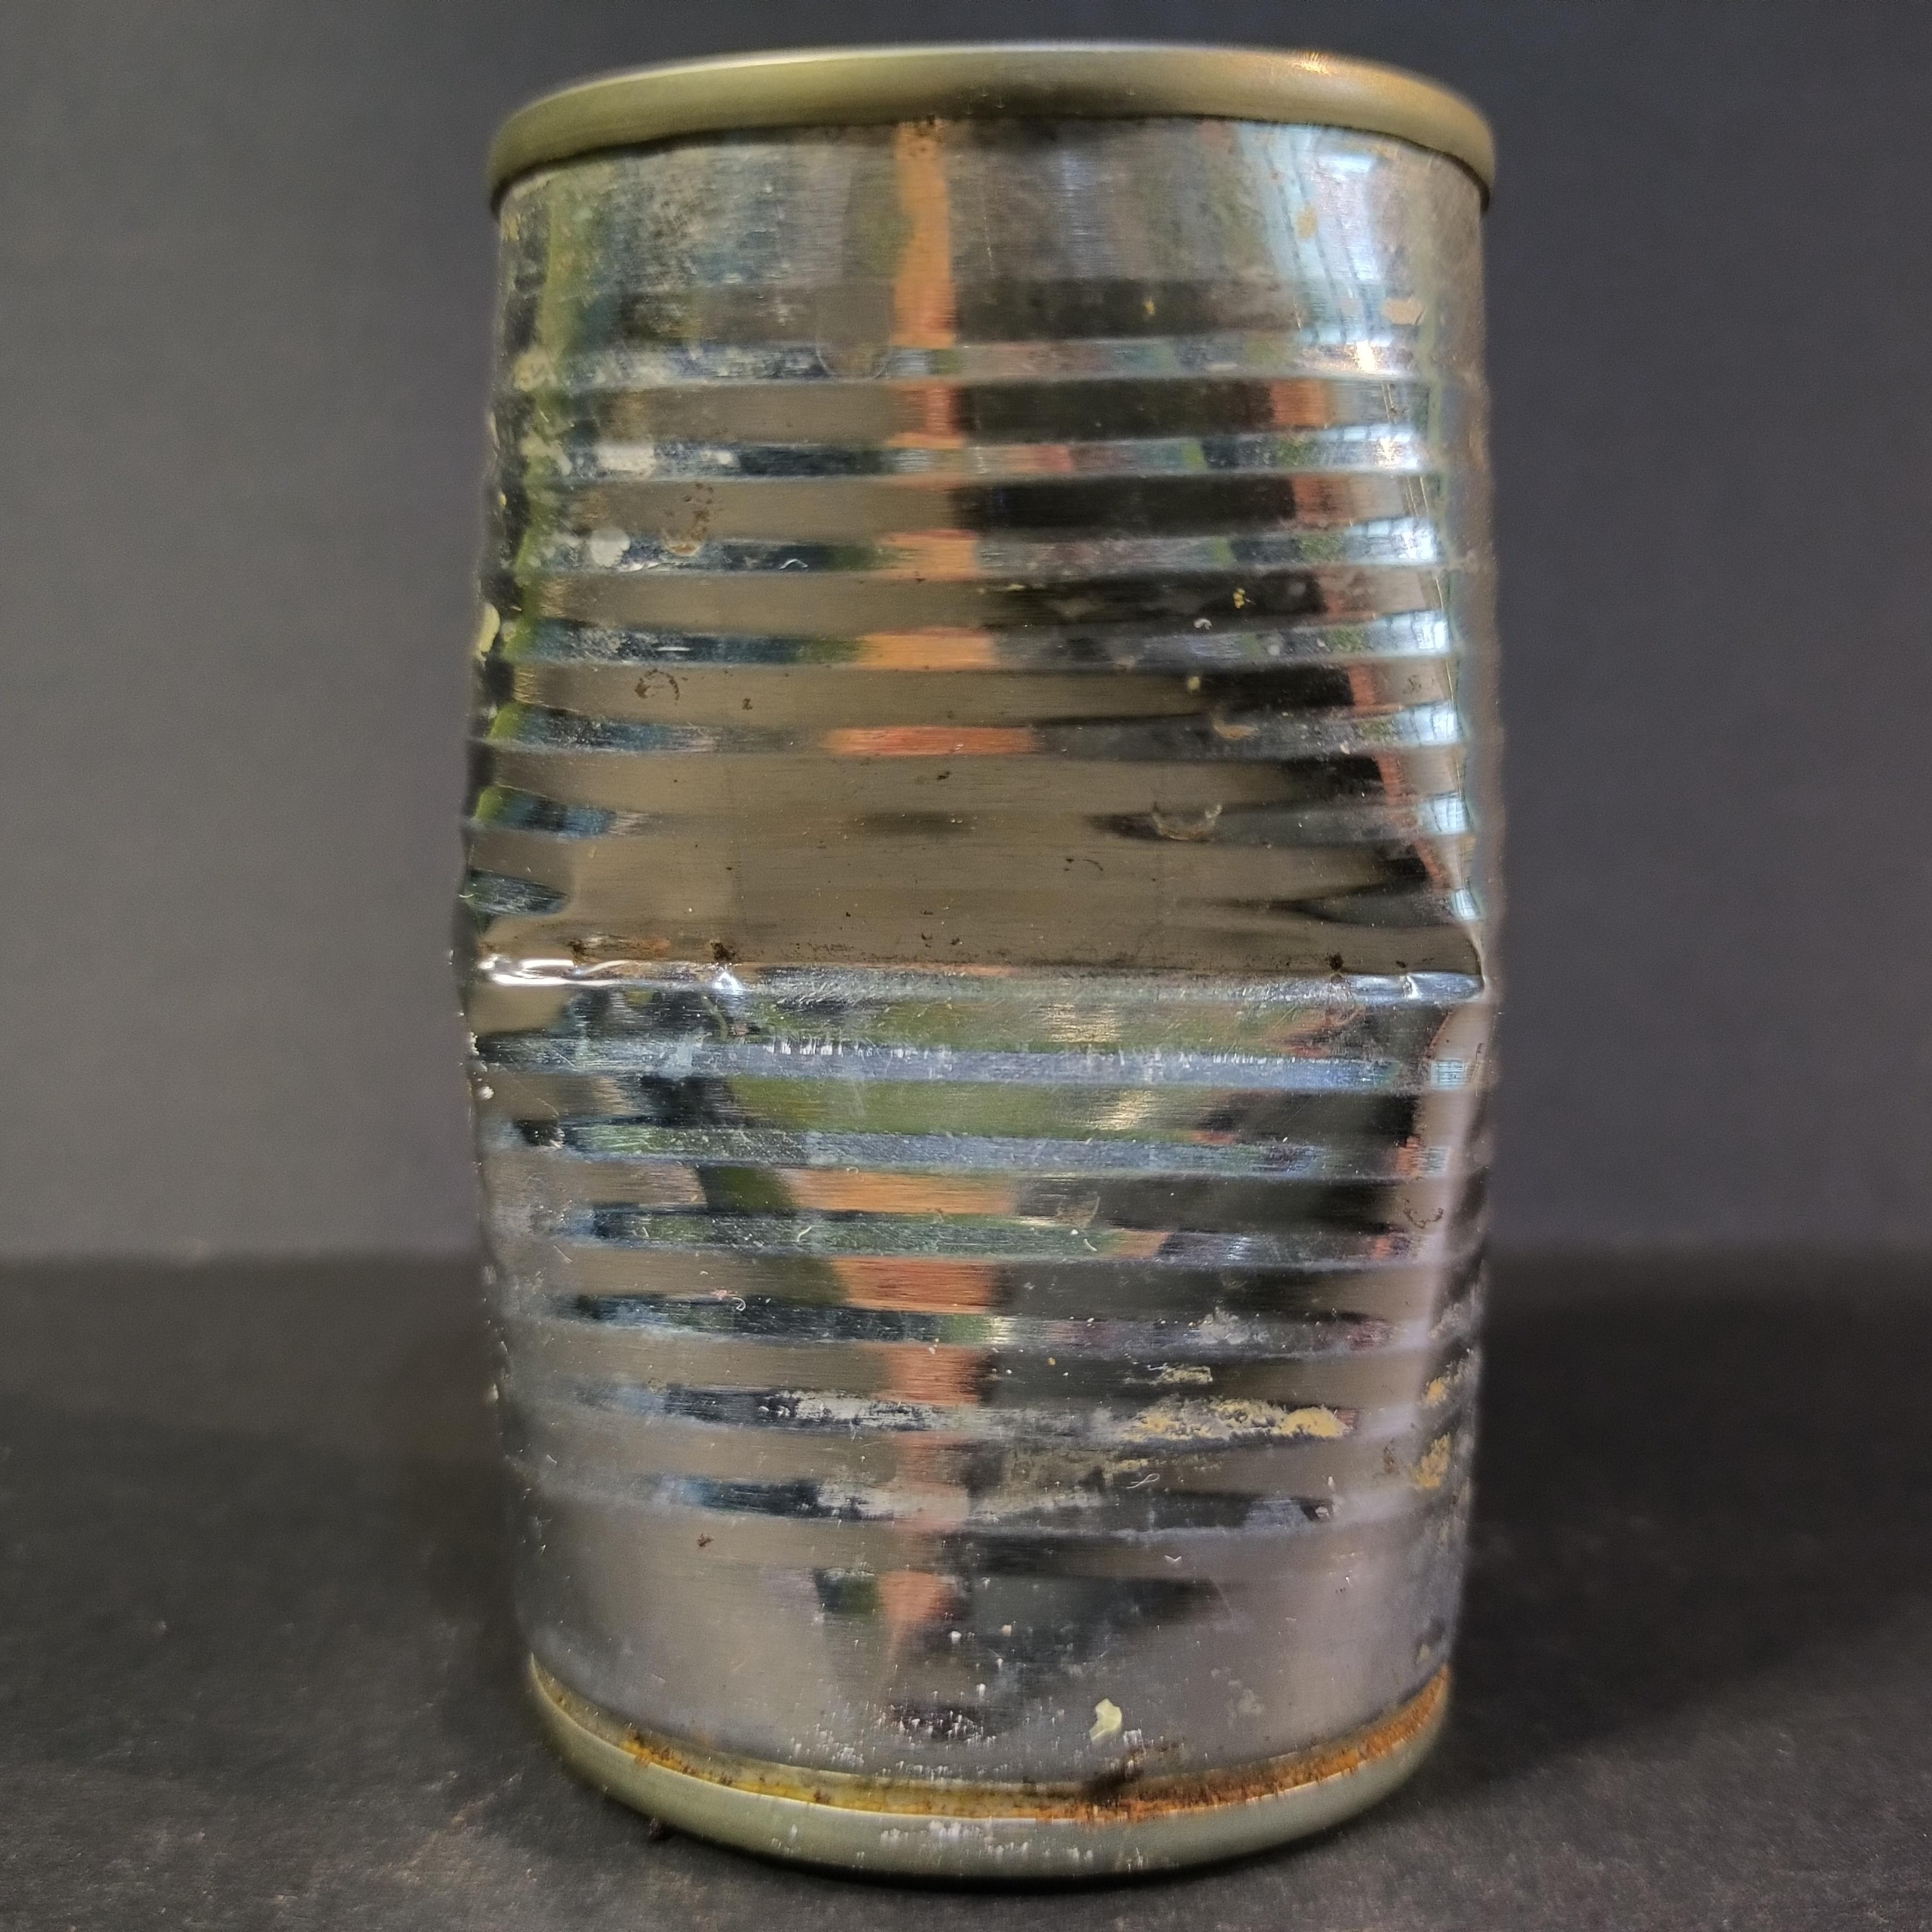Dented: (437, 14, 1541, 1881)
